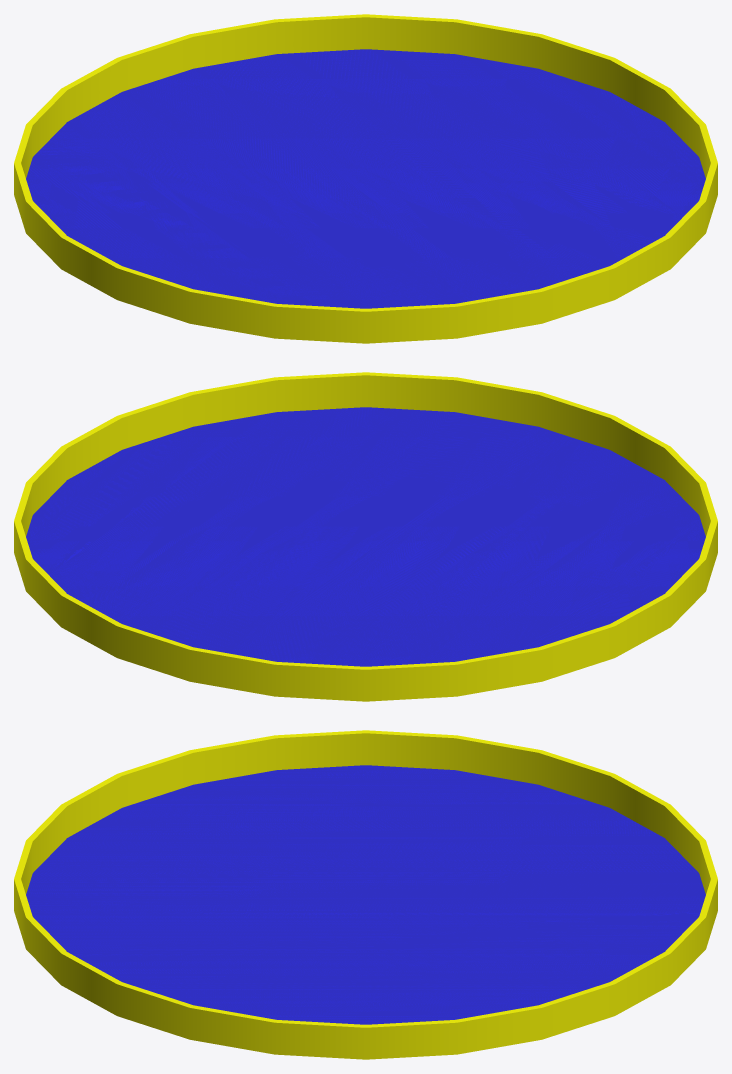
File: water_colored.dae
3 views of the same model, one above another, from view 1: azimuth 30°, elevation 25°; view 2: azimuth 150°, elevation 25°; view 3: azimuth 270°, elevation 25° (orthographic).
Visible parts, largest first — view 1: group_0, SketchUp (×2); view 2: group_0, SketchUp (×2); view 3: group_0, SketchUp (×2).
Part boxes in pixels (x1,y1,x2,y2): group_0: (26, 49, 705, 308); SketchUp (×2): (14, 14, 717, 343); group_0: (26, 407, 705, 666); SketchUp (×2): (14, 372, 717, 701); group_0: (26, 765, 705, 1024); SketchUp (×2): (14, 730, 717, 1059).
Size of the model in its own units: 39.37 by 39.37 by 1.97.
